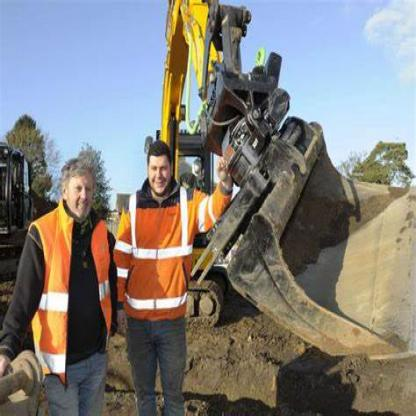person: (113, 102, 233, 414), (5, 154, 114, 414)
